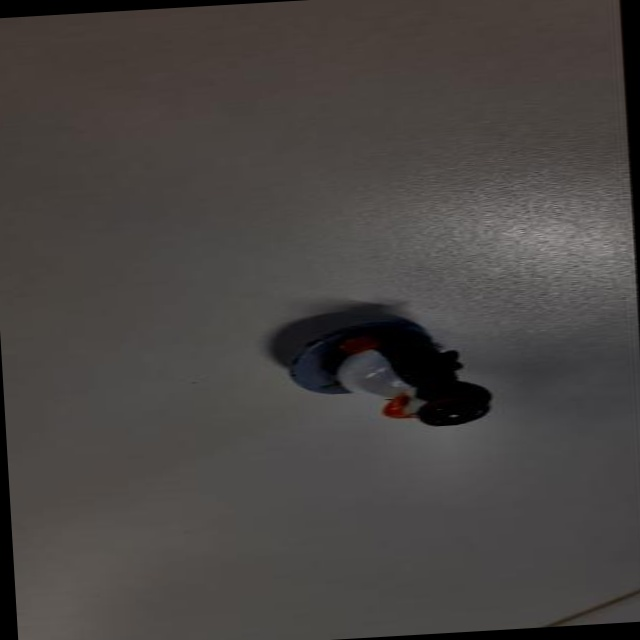Penguin: (263, 308, 503, 437)
